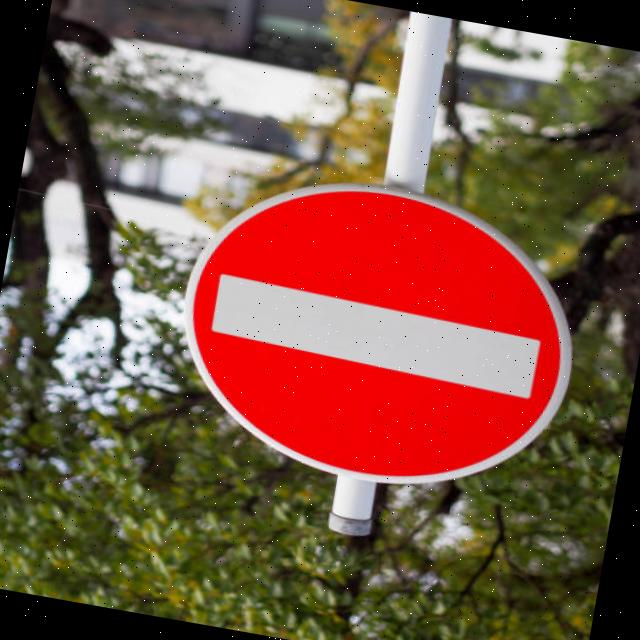do_not_enter: (153, 148, 612, 522)
